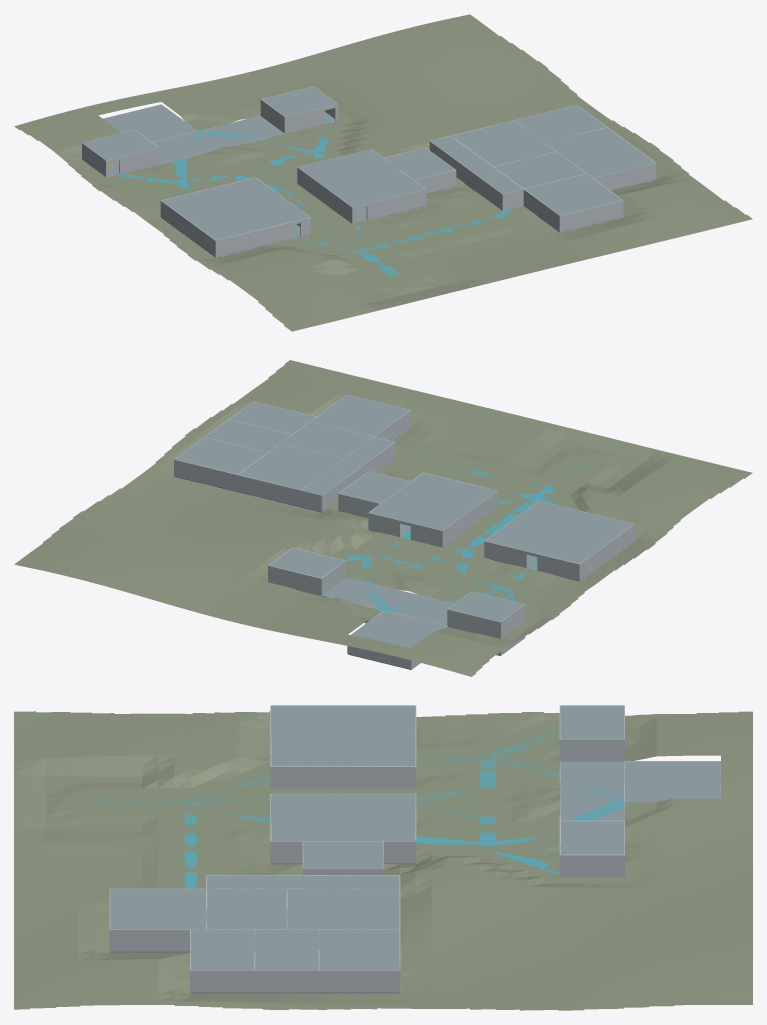
Rendered from closed-floors.glb.
3 renders of one model, top to bottom at view 1: azimuth 30°, elevation 25°; view 2: azimuth 150°, elevation 25°; view 3: azimuth 270°, elevation 25°, orthographic. The views are drawn at different scales.
Parts seen in each view (by area): view 1: Saved editor terrain WLD-07-MORTUARY, Ceiling cap chapel, Ceiling cap cottage, Ceiling cap mort-viewing, Ceiling cap mort-bay, Ceiling cap mort-prep, Ceiling cap chamber, Ceiling cap mort-reception, Ceiling cap mort-office, Ceiling cap mort-cold, Ceiling cap mort-hall, Wall chapel S (+16 smaller); view 2: Saved editor terrain WLD-07-MORTUARY, Ceiling cap chapel, Ceiling cap cottage, Ceiling cap mort-viewing, Ceiling cap mort-bay, Ceiling cap chamber, Ceiling cap mort-reception, Ceiling cap mort-prep, Ceiling cap mort-hall, Ceiling cap mort-cold, Ceiling cap mort-office, Ceiling cap west-stair (+18 smaller); view 3: Saved editor terrain WLD-07-MORTUARY, Ceiling cap chapel, Ceiling cap cottage, Ceiling cap mort-viewing, Ceiling cap mort-bay, Ceiling cap chamber, Wall chapel E, Ceiling cap mort-prep, Ceiling cap mort-reception, Ceiling cap mort-hall, Ceiling cap mort-office, Ceiling cap mort-cold (+16 smaller).
Part boxes in pixels (x1,y1,x2,y2): Saved editor terrain WLD-07-MORTUARY: (14,14,752,331); Ceiling cap chapel: (162,177,309,239); Ceiling cap cottage: (298,149,425,206); Ceiling cap mort-viewing: (452,120,555,166); Ceiling cap mort-bay: (525,174,622,215); Ceiling cap mort-prep: (514,105,606,142); Ceiling cap chamber: (103,104,196,141); Ceiling cap mort-reception: (494,152,585,188); Ceiling cap mort-office: (569,145,655,177); Ceiling cap mort-cold: (545,127,630,160); Ceiling cap mort-hall: (430,136,522,193); Wall chapel S: (215,222,290,256); Saved editor terrain WLD-07-MORTUARY: (14,360,752,676); Ceiling cap chapel: (485,501,633,563); Ceiling cap cottage: (369,473,496,530); Ceiling cap mort-viewing: (238,444,342,490); Ceiling cap mort-bay: (311,394,409,436); Ceiling cap chamber: (351,611,446,647); Ceiling cap mort-reception: (280,421,373,458); Ceiling cap mort-prep: (175,437,267,474); Ceiling cap mort-hall: (301,437,394,495); Ceiling cap mort-cold: (205,419,291,452); Ceiling cap mort-office: (230,401,315,434); Ceiling cap west-stair: (448,591,524,621); Saved editor terrain WLD-07-MORTUARY: (14,711,752,1010); Ceiling cap chapel: (271,705,415,766); Ceiling cap cottage: (271,793,415,841); Ceiling cap mort-viewing: (287,889,399,929); Ceiling cap mort-bay: (110,889,206,929); Ceiling cap chamber: (624,761,720,801); Wall chapel E: (271,766,415,788); Ceiling cap mort-prep: (319,929,399,970); Ceiling cap mort-reception: (206,889,286,929); Ceiling cap mort-hall: (206,875,399,888); Ceiling cap mort-office: (190,929,254,970); Ceiling cap mort-cold: (255,929,319,970).
Bounding box in the file's own units: 88 × 6.16 × 92.
